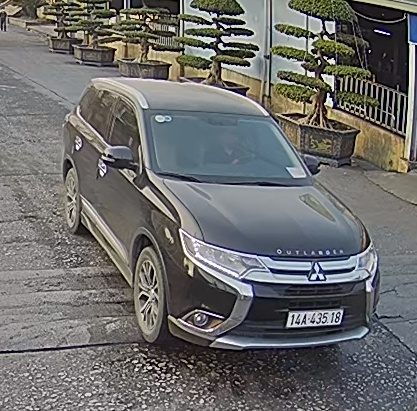vehicle plate: (283, 306, 348, 328)
